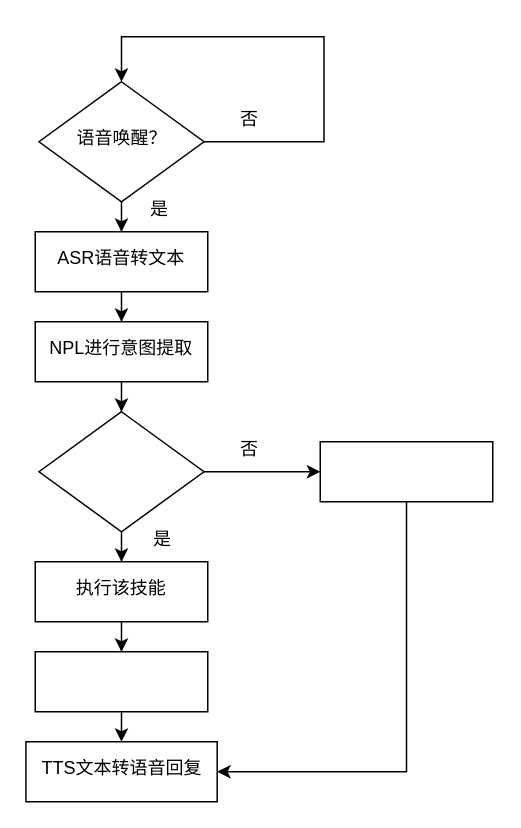
This 521x828 diagram has some shape labels left out. Each missing label, with the box of its shape:
是否属于技能?: (38, 410, 204, 532)
聊天机器人兜底: (319, 440, 493, 502)
获得该技能回复: (34, 650, 208, 712)
